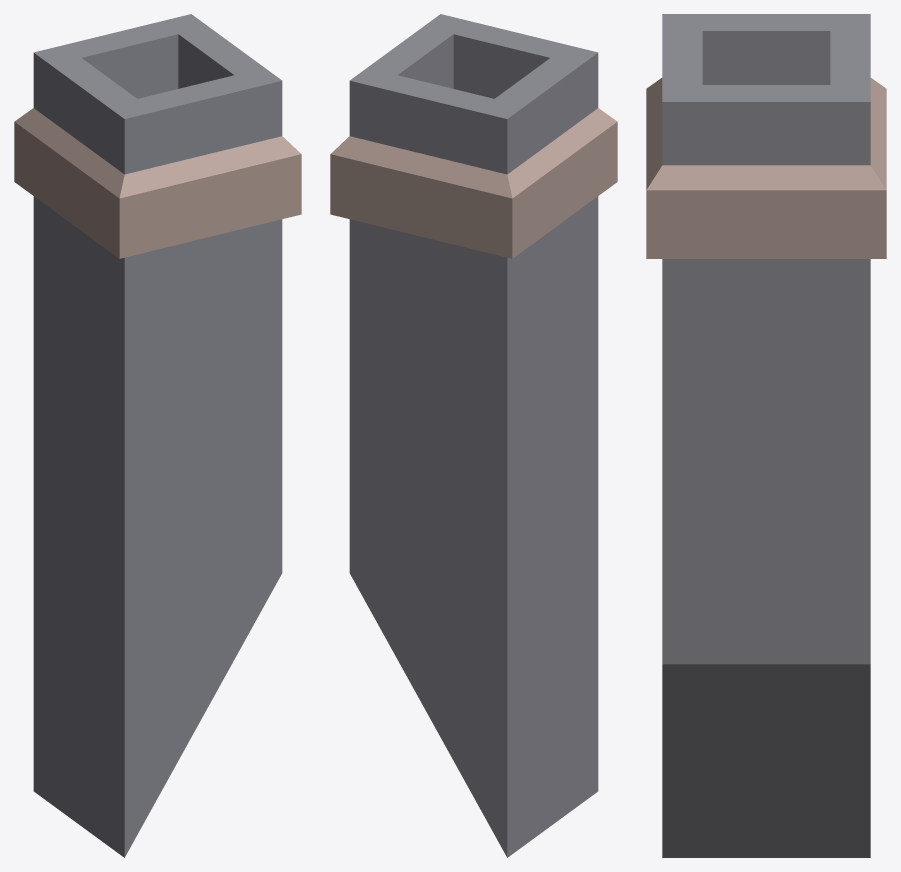
The model's file is chimney_3.fbx.
The picture shows the model from 3 angles, left to right: view 1: azimuth 30°, elevation 25°; view 2: azimuth 150°, elevation 25°; view 3: azimuth 270°, elevation 25°; orthographic projection. The views are drawn at different scales.
Visible parts, largest first — view 1: chimney_3; view 2: chimney_3; view 3: chimney_3.
Part boxes in pixels (x1,y1,x2,y2): chimney_3: (14, 14, 301, 857); chimney_3: (330, 14, 617, 857); chimney_3: (646, 14, 886, 857).
Size of the model in its own units: 164 by 635 by 164.
